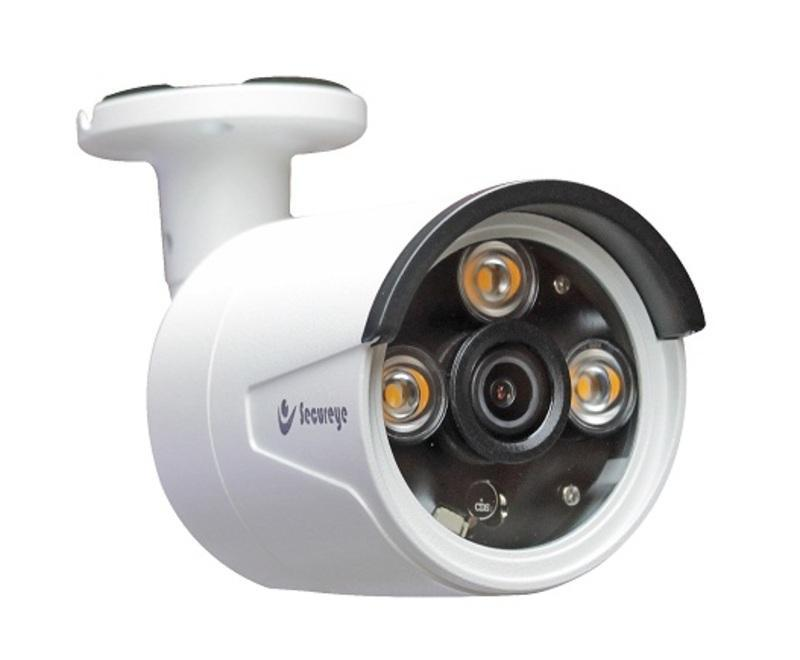bullet: (136, 172, 715, 603)
